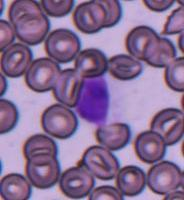L: (75, 75, 126, 129)
